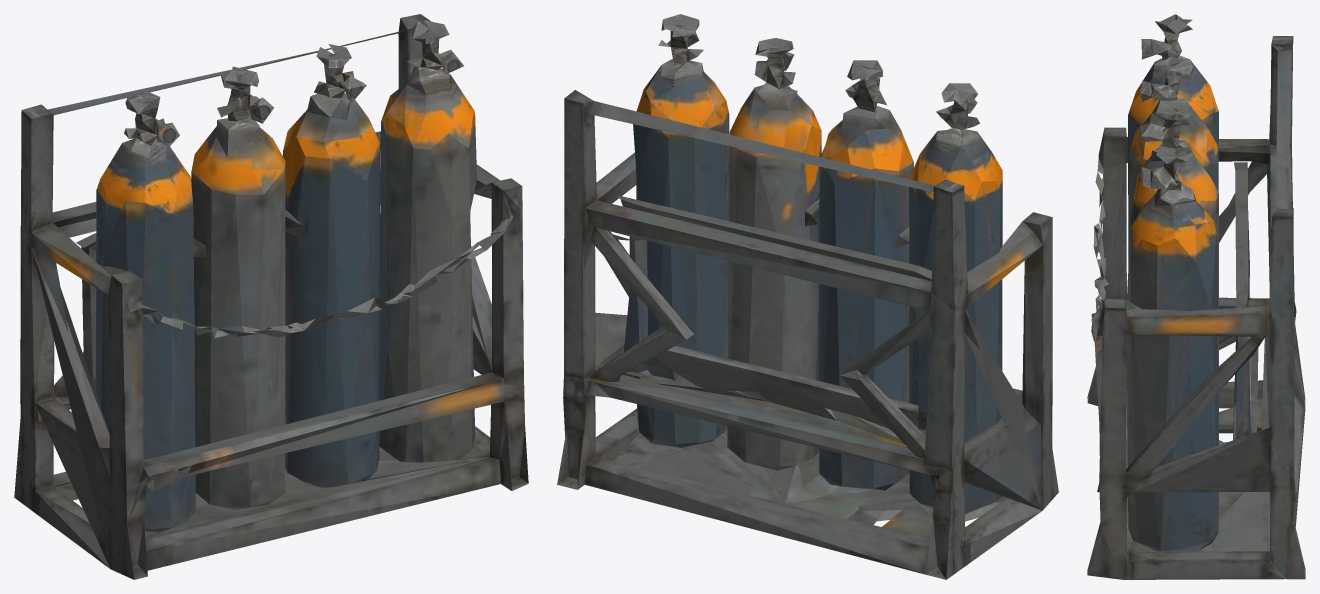
The model's file is cylinders.glb.
The picture shows the model from 3 angles, left to right: view 1: azimuth 30°, elevation 25°; view 2: azimuth 150°, elevation 25°; view 3: azimuth 270°, elevation 25°; orthographic projection. The views are drawn at different scales.
Parts seen in each view (by area): view 1: Mesh_0; view 2: Mesh_0; view 3: Mesh_0.
Part boxes in pixels (x1,y1,x2,y2): Mesh_0: (14,14,528,579); Mesh_0: (557,14,1058,579); Mesh_0: (1087,14,1305,579).
Size of the model in its own units: 1.73 by 1.8 by 0.8764.
Materials: 1 (1 with a texture image).
